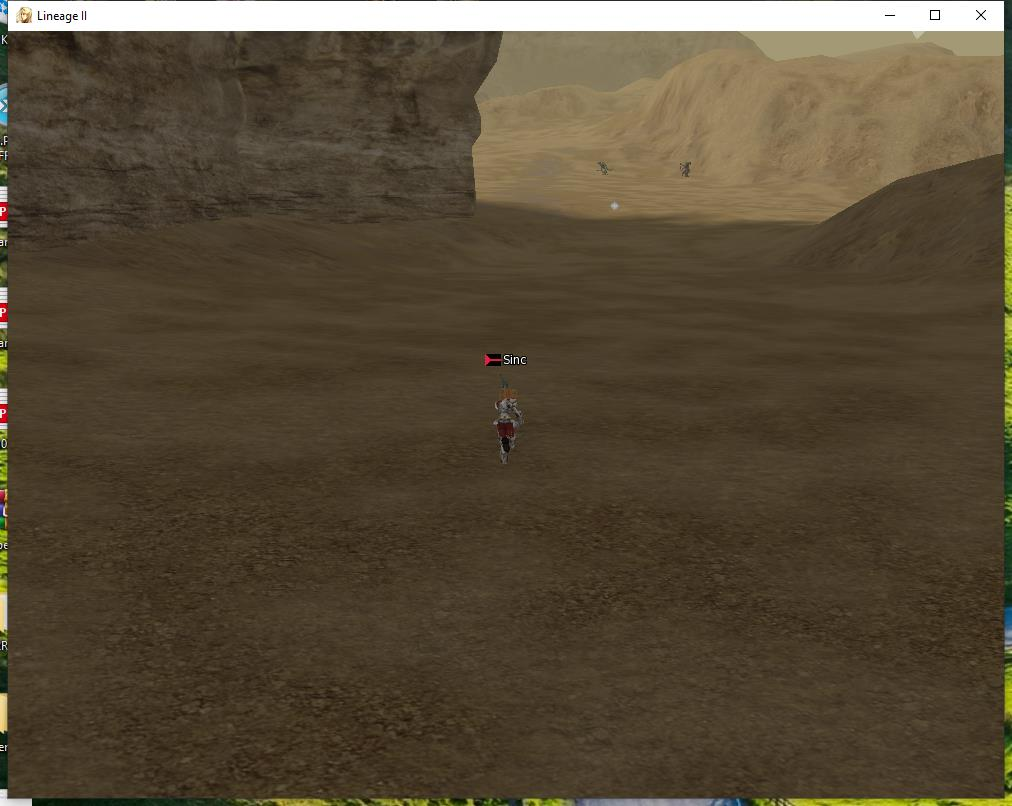monster: (676, 152, 695, 185), (596, 159, 615, 179)
